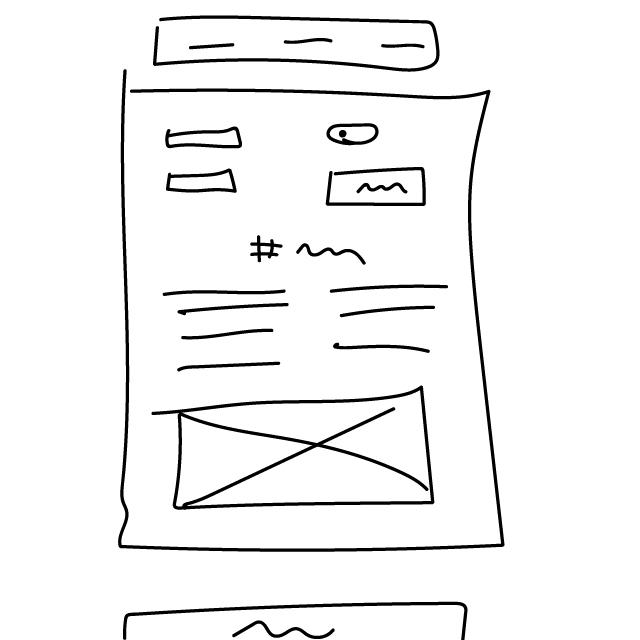button: (328, 166, 430, 211)
checkbox: (324, 122, 382, 148)
container: (96, 68, 516, 572)
footer: (110, 596, 476, 640)
frame: (152, 384, 448, 512)
heading: (246, 231, 378, 272)
input: (164, 124, 252, 158), (164, 167, 243, 200)
nav: (147, 13, 443, 75)
text: (156, 279, 303, 377), (327, 279, 457, 359)
